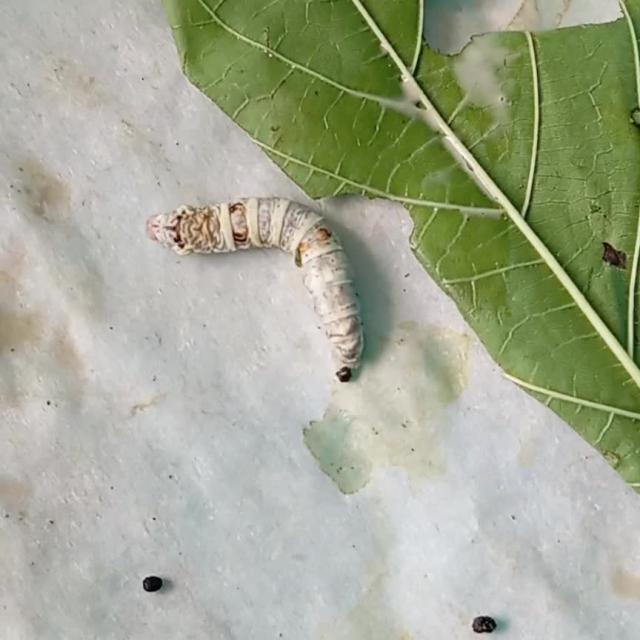Grasserie: (128, 176, 382, 382)
